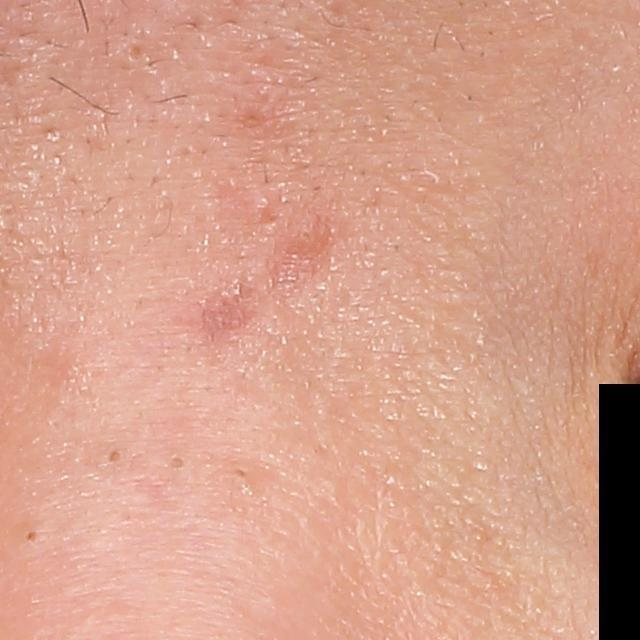comedo: (164, 453, 188, 472), (233, 463, 251, 481), (21, 526, 39, 543), (105, 451, 122, 466)
